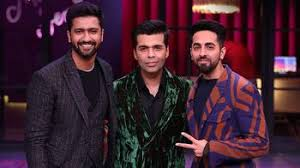Bad: (25, 2, 184, 168), (112, 21, 270, 168)
